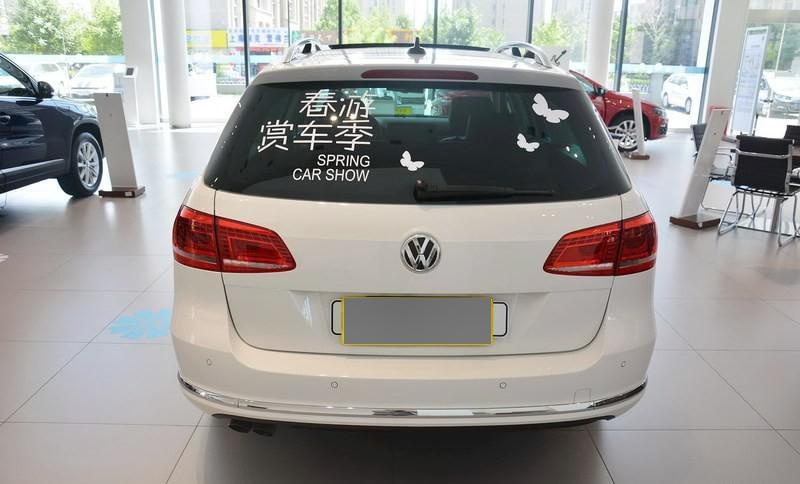Wagon: (167, 34, 658, 439)
